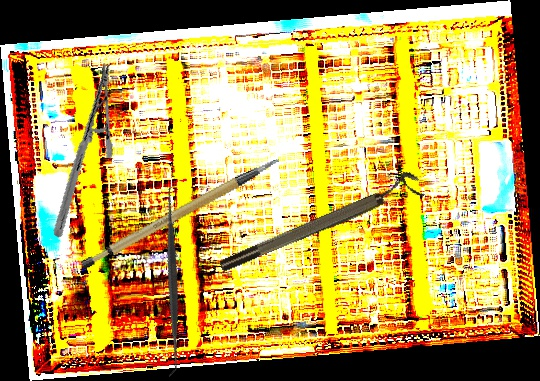Fixation Ring: (213, 168, 426, 276)
Needle Holder: (19, 61, 145, 239)
Scalpel Handle: (70, 157, 293, 273)
Spatula Surgical: (75, 183, 270, 378)
